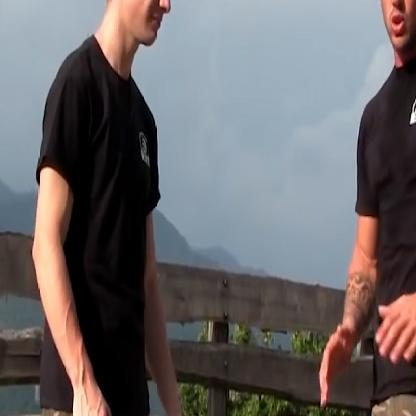knife: (66, 397, 168, 415)
